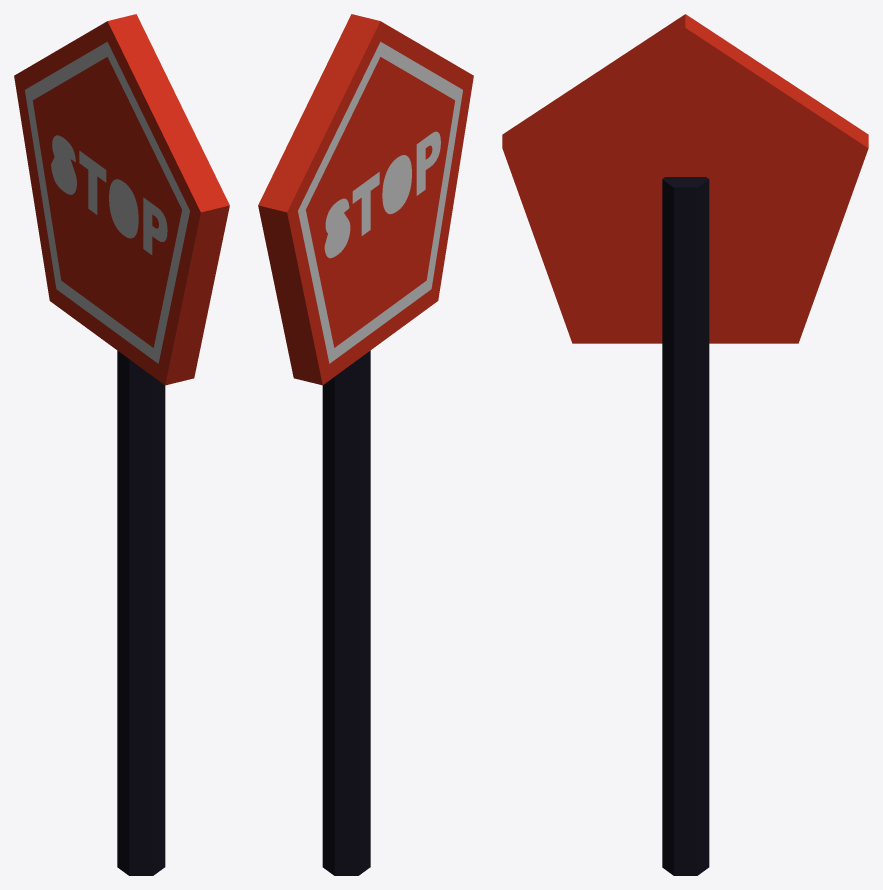
The model's file is stop.fbx.
The picture shows the model from 3 angles, left to right: view 1: azimuth 30°, elevation 25°; view 2: azimuth 150°, elevation 25°; view 3: azimuth 270°, elevation 25°; orthographic projection. The views are drawn at different scales.
Visible parts, largest first — view 1: Cylinder.038; view 2: Cylinder.038; view 3: Cylinder.038.
Boxes of the visible parts, left/top/right/bottom form: Cylinder.038: left=14, top=14, right=229, bottom=875; Cylinder.038: left=258, top=14, right=473, bottom=875; Cylinder.038: left=502, top=14, right=868, bottom=875.
Bounding box in the file's own units: 34.83 × 217 × 547.
